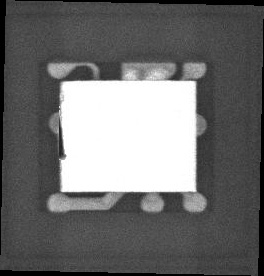DIE_BROKEN: (56, 114, 67, 161)
